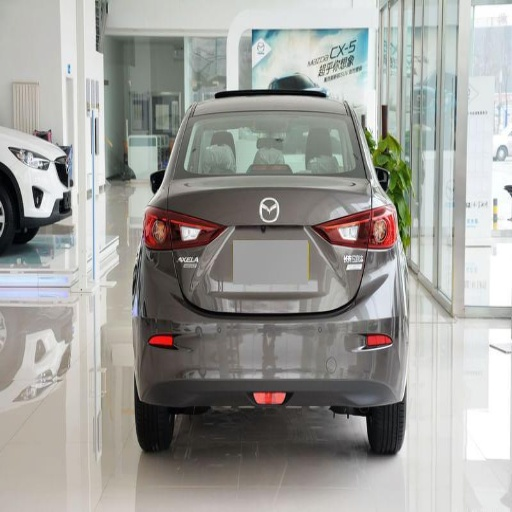_background_: (131, 247, 409, 408)
back_bumper: (177, 111, 366, 175)
back_left_door: (144, 206, 171, 250)
back_right_door: (369, 203, 399, 266)
right_mirror: (167, 176, 366, 312)
tailgate: (169, 179, 253, 254)
trunk: (366, 405, 407, 455), (135, 406, 176, 451)
